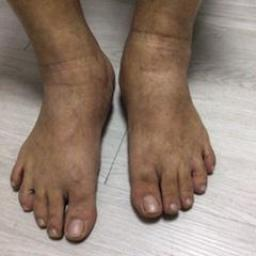Dorsal View -Both Feet-: (4, 19, 226, 249)
